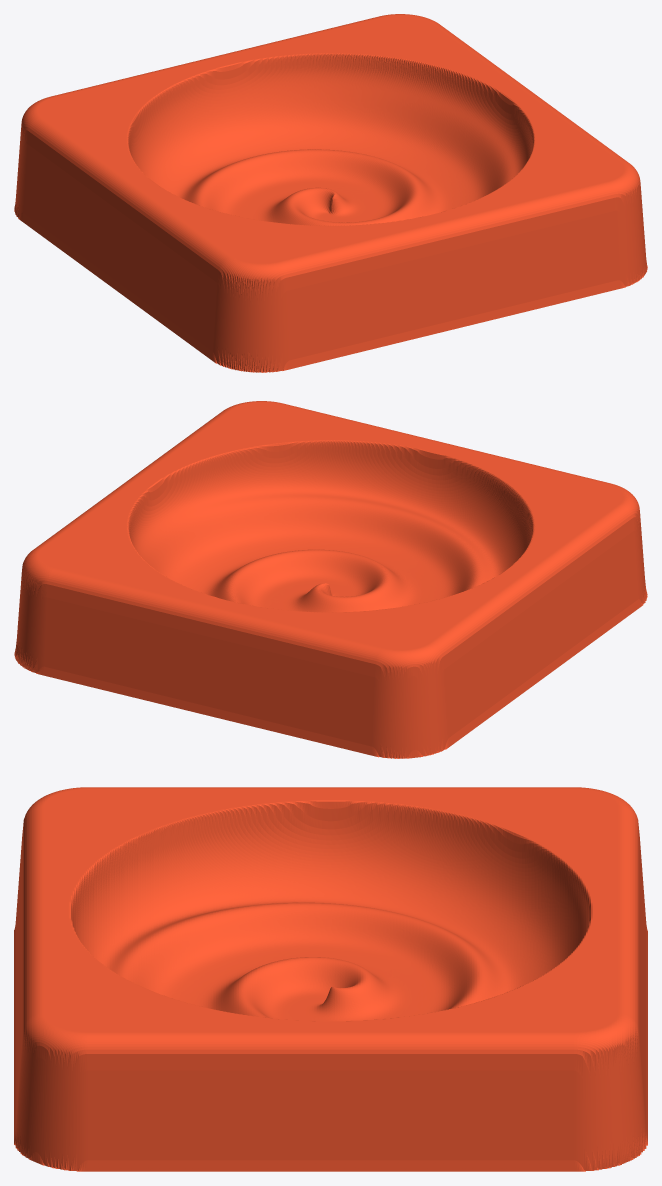
Rendered from mold.glb.
3 views of the same model, one above another, from view 1: azimuth 30°, elevation 25°; view 2: azimuth 150°, elevation 25°; view 3: azimuth 270°, elevation 25° (orthographic). The views are drawn at different scales.
Parts seen in each view (by area): view 1: geometry_0; view 2: geometry_0; view 3: geometry_0.
Part boxes in pixels (x1,y1,x2,y2): geometry_0: (14,14,647,372); geometry_0: (14,401,647,758); geometry_0: (14,787,647,1171).
Size of the model in its own units: 0.0778 by 0.0172 by 0.0778.
